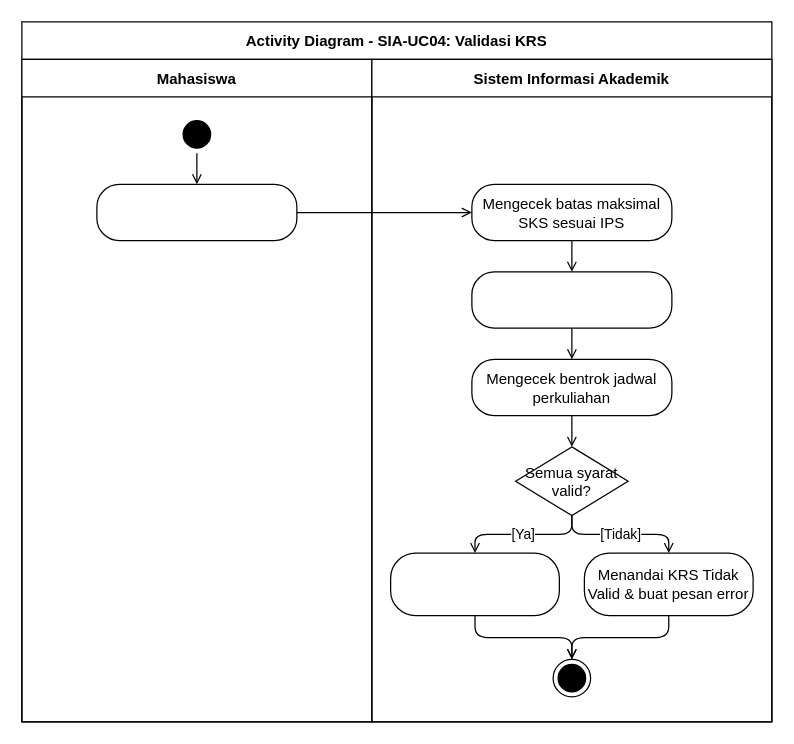
Image size: 794x744. Some labels were removed from this diagram. The centre of each missing label's shape, as x and y in pixels:
"Menandai KRS Valid & izinkan simpan" goes at (474,584).
"Mengecek mata kuliah prasyarat & kuota kelas" goes at (571,299).
"Mengirimkan daftar mata kuliah pilihan KRS" goes at (196,212).
